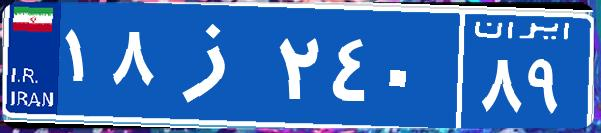0: (385, 28, 445, 110)
1: (57, 26, 110, 107)
2: (273, 28, 330, 110)
4: (330, 28, 385, 110)
8: (475, 38, 525, 113), (110, 28, 158, 105)
9: (525, 38, 570, 115)
ز: (158, 15, 273, 115)
